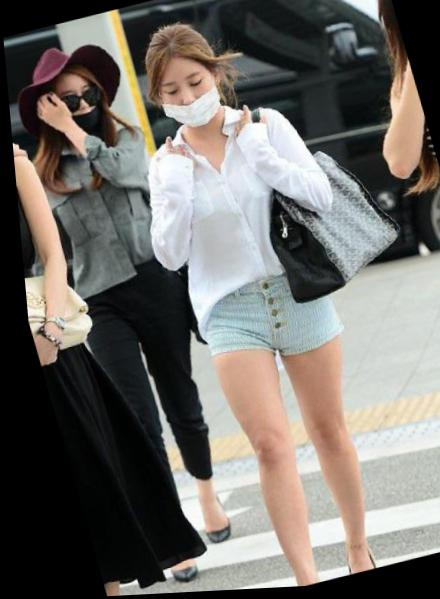WRONG: (151, 70, 225, 133), (45, 73, 107, 145)
